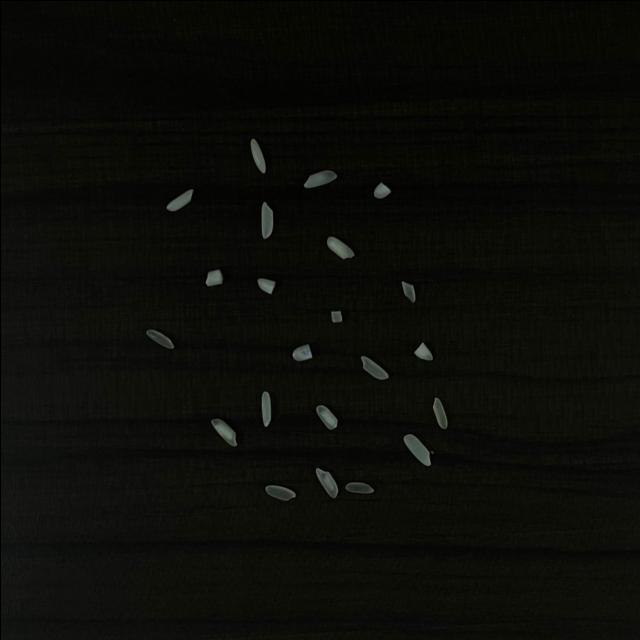Broken: (326, 236, 354, 259), (412, 341, 432, 359), (292, 342, 312, 360), (399, 280, 415, 302), (203, 269, 223, 286), (256, 278, 276, 294), (373, 181, 390, 199), (330, 310, 342, 322)
Full: (402, 433, 430, 465), (210, 418, 237, 446), (358, 354, 388, 378), (315, 467, 337, 497), (166, 188, 193, 210), (303, 169, 336, 187), (249, 137, 265, 173), (146, 328, 173, 348), (315, 404, 337, 428), (264, 484, 294, 500), (260, 200, 272, 238), (432, 396, 446, 428), (260, 390, 270, 426), (344, 482, 374, 492)
